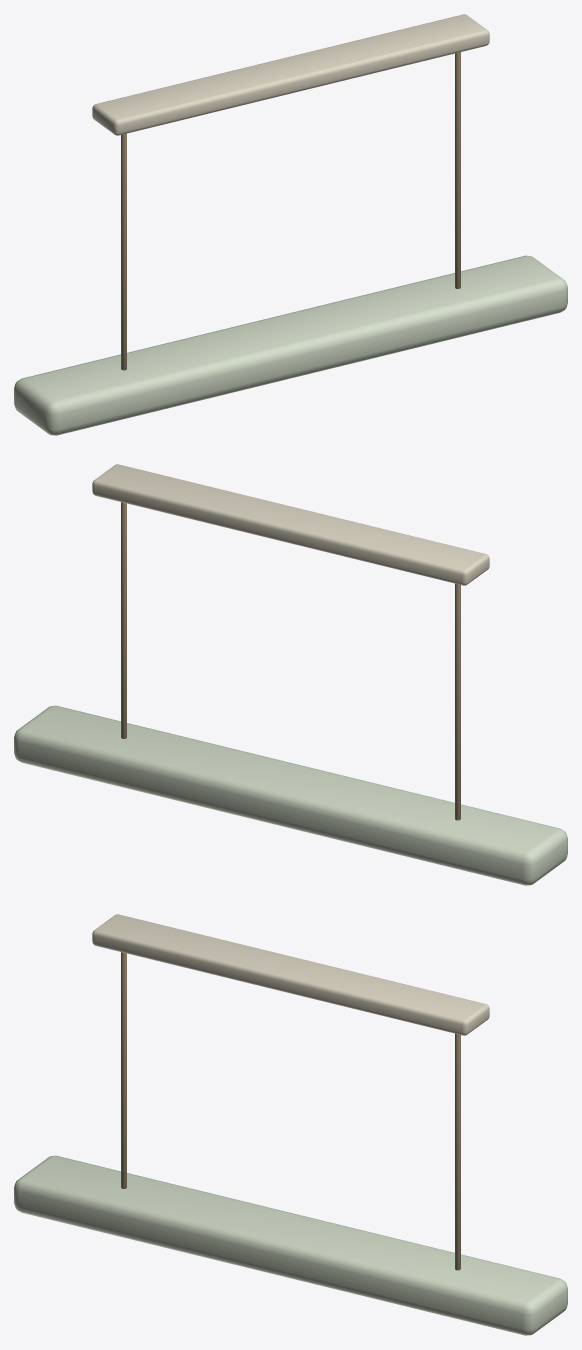
File: linear-pendant.glb
3 views of the same model, one above another, from view 1: azimuth 30°, elevation 25°; view 2: azimuth 150°, elevation 25°; view 3: azimuth 330°, elevation 25° (orthographic).
Visible parts, largest first — view 1: linear-pendant; view 2: linear-pendant; view 3: linear-pendant.
Boxes of the visible parts, x1=… form: linear-pendant: x1=14, y1=14, x2=567, y2=435; linear-pendant: x1=14, y1=464, x2=567, y2=885; linear-pendant: x1=14, y1=914, x2=567, y2=1335.
Size of the model in its own units: 1.2 by 0.65 by 0.16.
